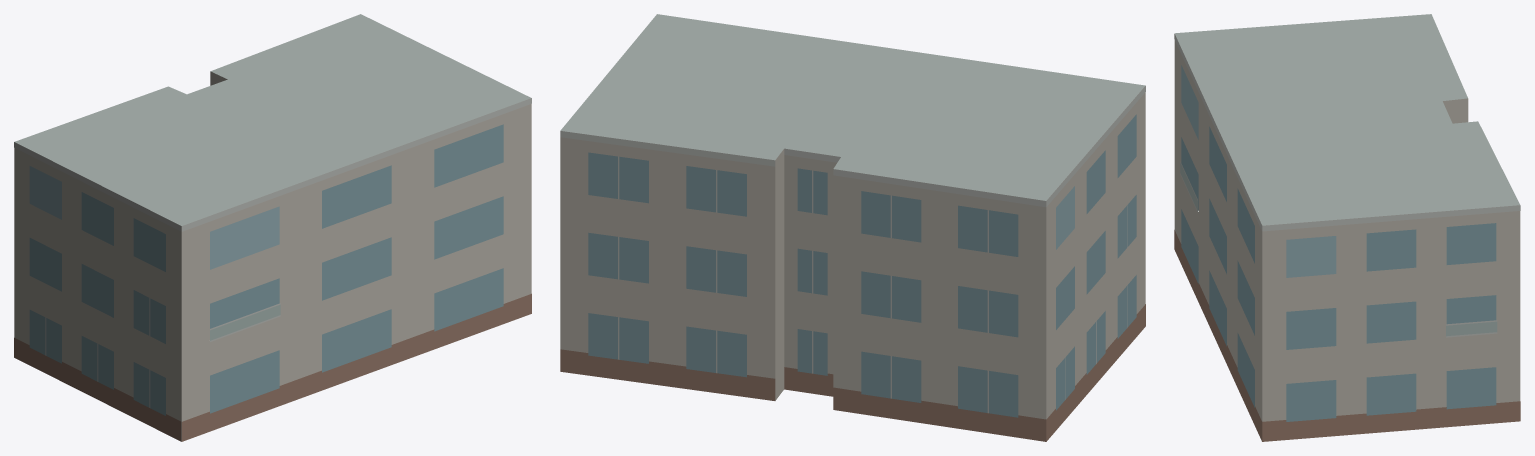
Rendered from survey-upis-32606664.glb.
3 renders of one model, left to right at view 1: azimuth 30°, elevation 25°; view 2: azimuth 150°, elevation 25°; view 3: azimuth 270°, elevation 25°, orthographic. The views are drawn at different scales.
Visible parts, largest first — view 1: survey-upis-32606664.tmp; view 2: survey-upis-32606664.tmp; view 3: survey-upis-32606664.tmp.
Part boxes in pixels (x1,y1,x2,y2): survey-upis-32606664.tmp: [14, 14, 531, 441]; survey-upis-32606664.tmp: [560, 14, 1145, 441]; survey-upis-32606664.tmp: [1174, 14, 1520, 441].
Bounding box in the file's own units: 19.34 × 9.2 × 13.36.
